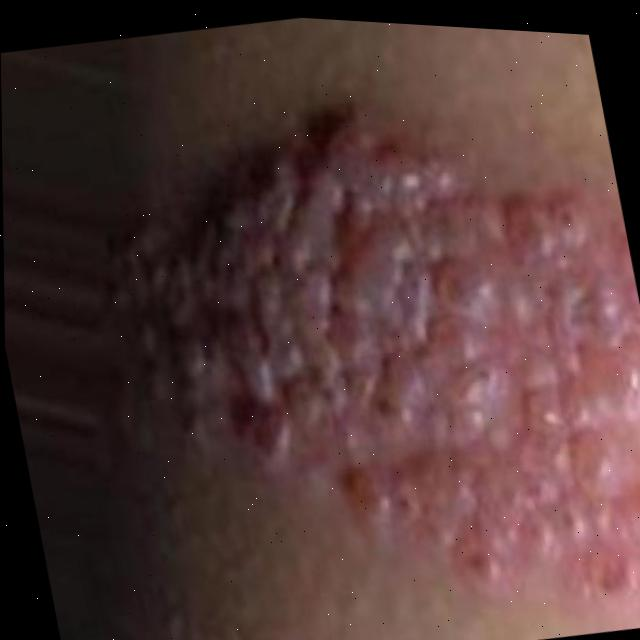Shingles: (61, 49, 640, 640)
